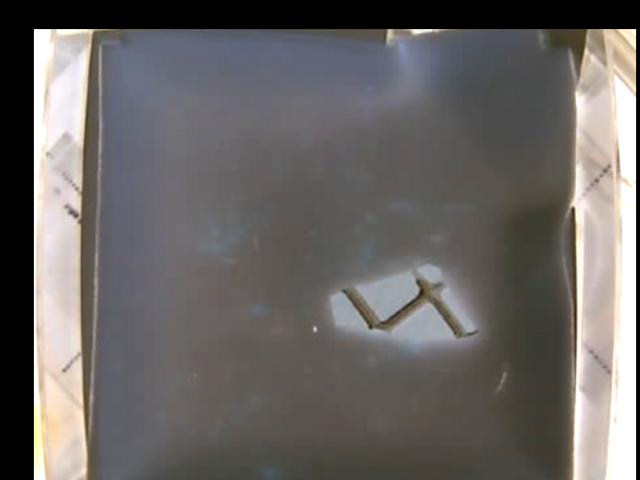China: (329, 263, 478, 345)
